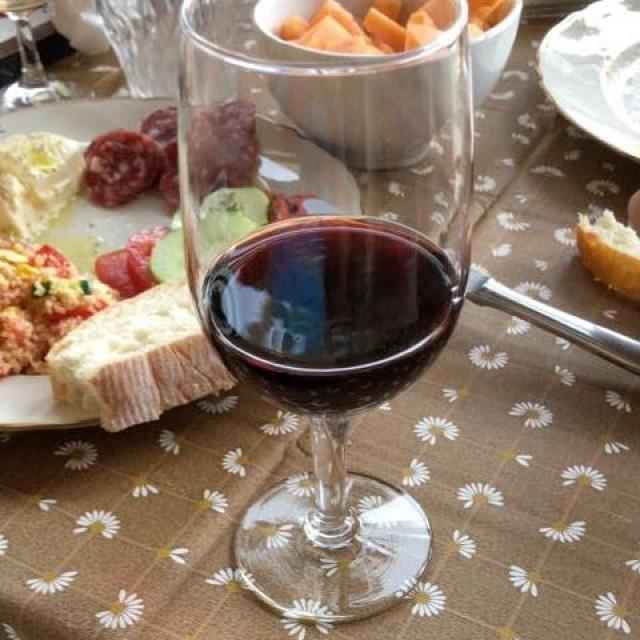wine: (202, 213, 471, 432)
